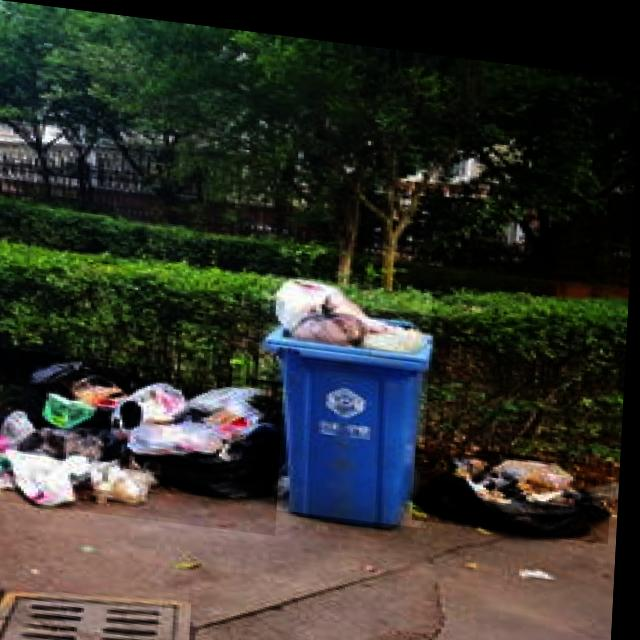garbage: (0, 345, 287, 528), (417, 430, 616, 528)
overflow: (256, 265, 435, 516)
